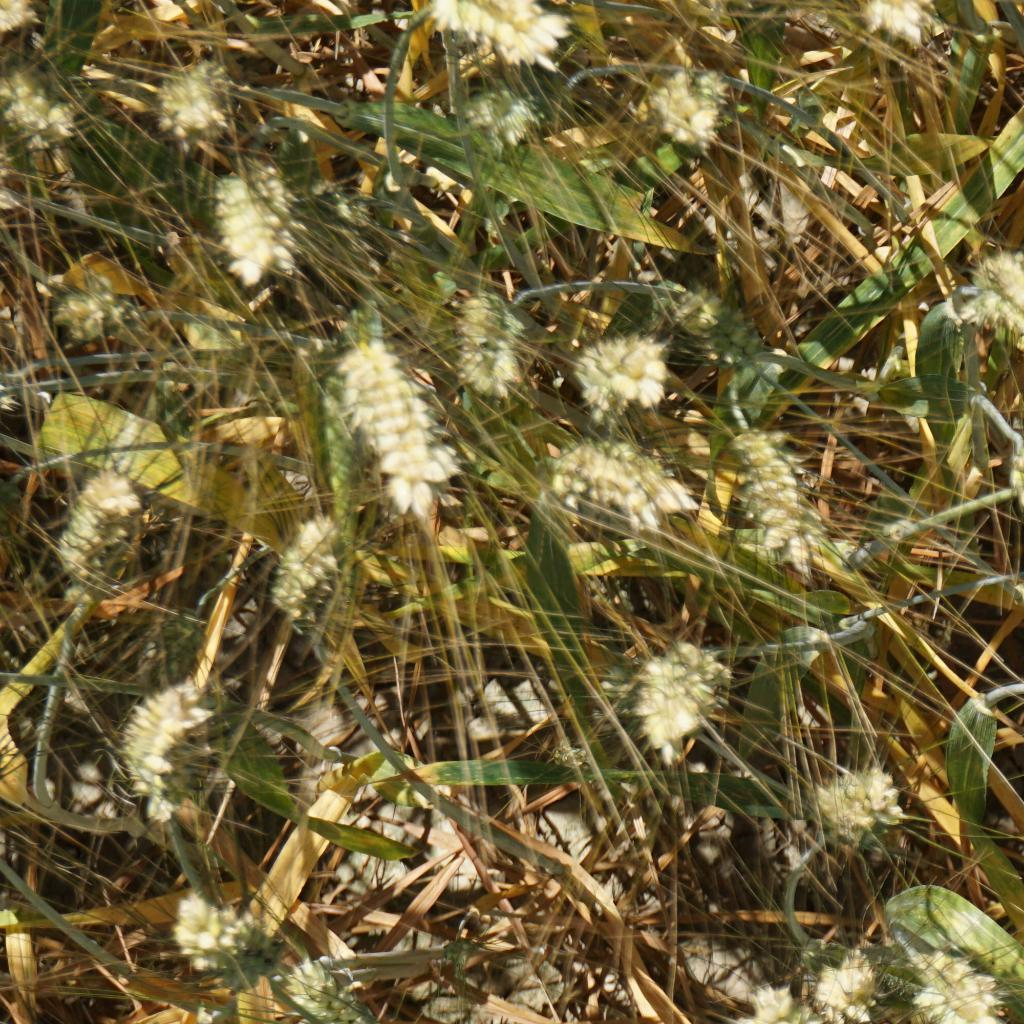0-0: (316, 325, 444, 504), (102, 664, 232, 834), (194, 158, 344, 290), (719, 422, 839, 581), (152, 877, 303, 988), (36, 459, 150, 606), (614, 643, 742, 764), (254, 943, 433, 1024), (538, 435, 687, 531), (648, 278, 777, 381), (448, 275, 538, 412), (801, 751, 910, 856), (252, 504, 342, 625), (559, 323, 678, 412), (432, 0, 573, 75), (900, 934, 1016, 1024), (640, 51, 740, 154), (0, 57, 90, 166), (30, 273, 141, 350), (808, 938, 898, 1024), (152, 60, 235, 152), (958, 243, 1024, 348), (838, 0, 950, 52), (465, 88, 544, 158), (435, 935, 487, 979), (543, 732, 595, 774)
